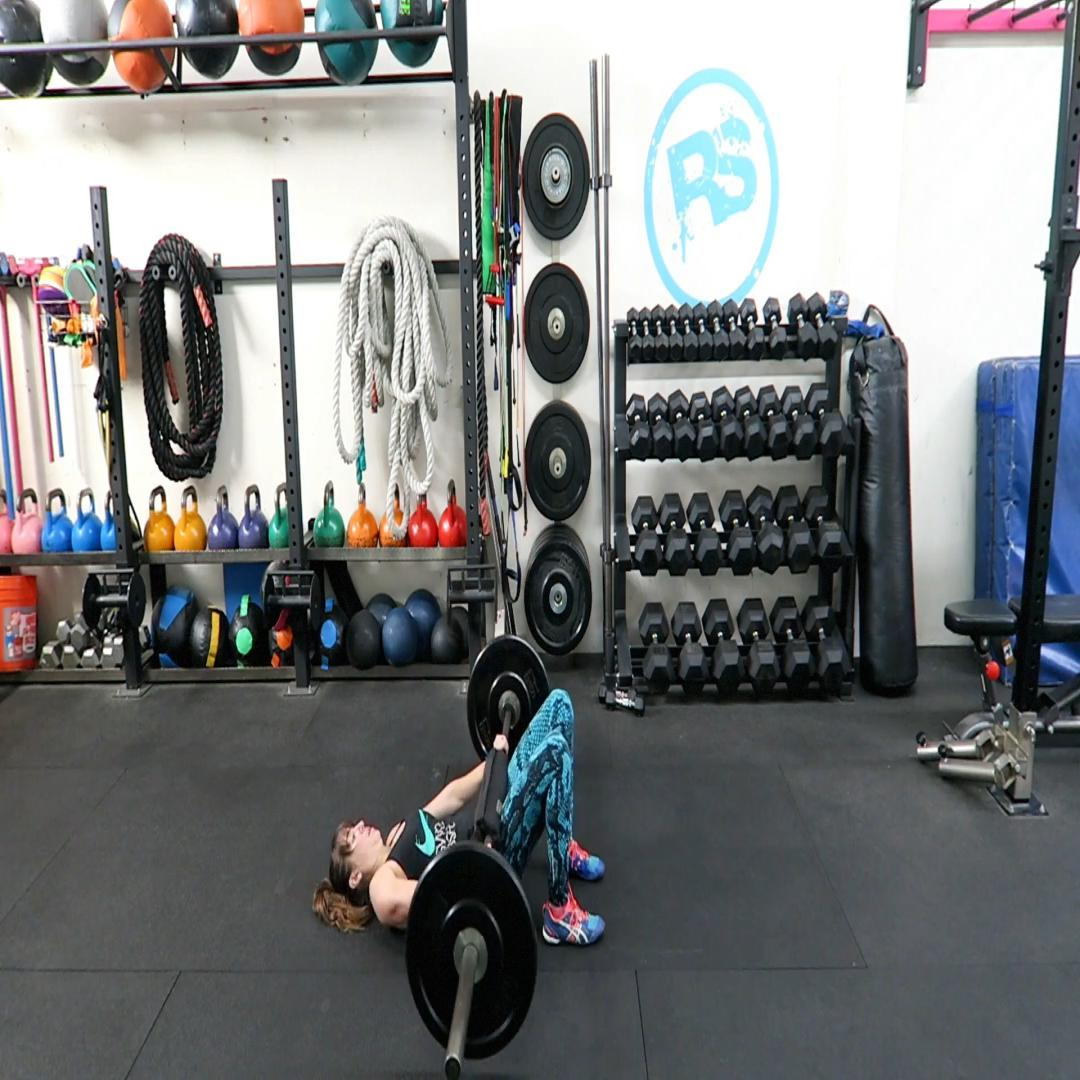Bar: (444, 1055, 462, 1079)
Barbell: (405, 850, 537, 1060)
